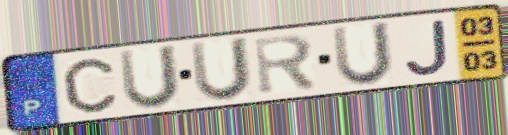C: (60, 56, 120, 115)
J: (402, 17, 452, 78)
R: (251, 32, 320, 98)
U: (187, 35, 254, 104), (116, 42, 182, 112), (329, 19, 395, 89)
